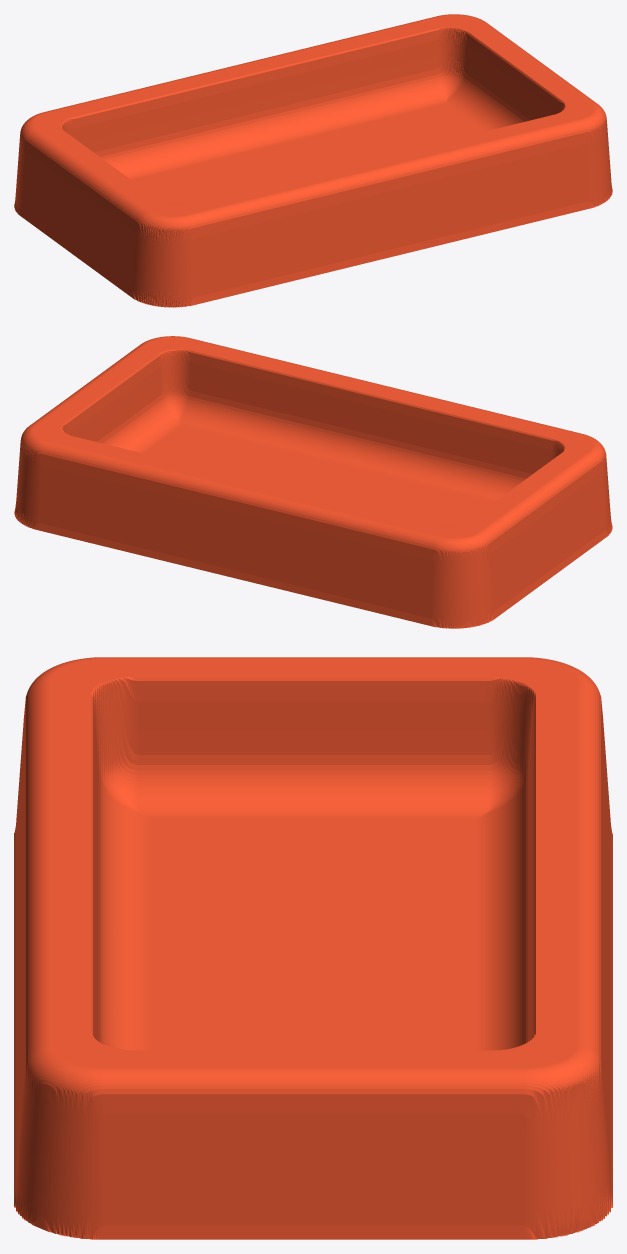
The model's file is mold.glb.
3 renders of one model, top to bottom at view 1: azimuth 30°, elevation 25°; view 2: azimuth 150°, elevation 25°; view 3: azimuth 270°, elevation 25°, orthographic. The views are drawn at different scales.
Visible parts, largest first — view 1: geometry_0; view 2: geometry_0; view 3: geometry_0.
Boxes of the visible parts, x1,y1,x2,y2 form: geometry_0: [14, 14, 612, 307]; geometry_0: [14, 336, 612, 628]; geometry_0: [14, 657, 612, 1239].
Bounding box in the file's own units: 0.105 × 0.0175 × 0.0606.
